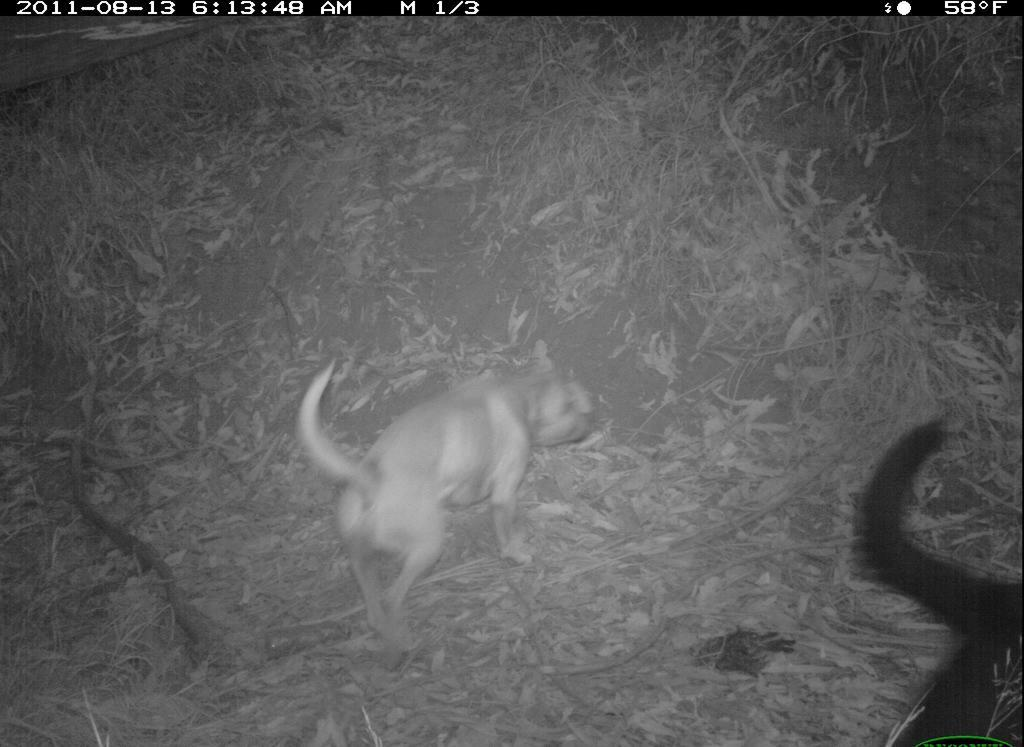dog: (292, 328, 614, 670), (844, 410, 1018, 740)
